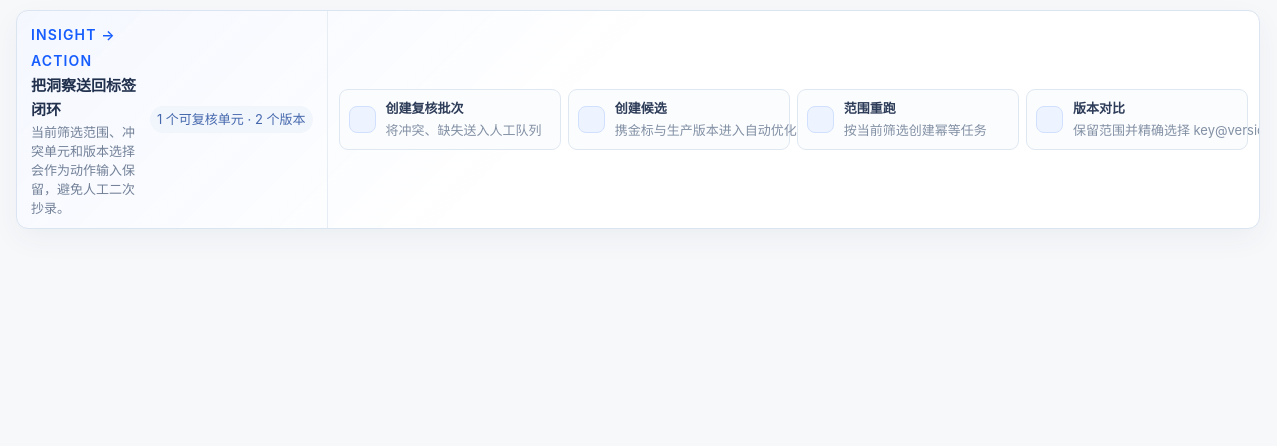
Test: GovernanceActions › turns conflicts into a traceable review batch
The image size is (1277, 446).
Click the button "创建复核批次 将冲突、缺失送入人工队列": (450, 120) [338,89,561,150]
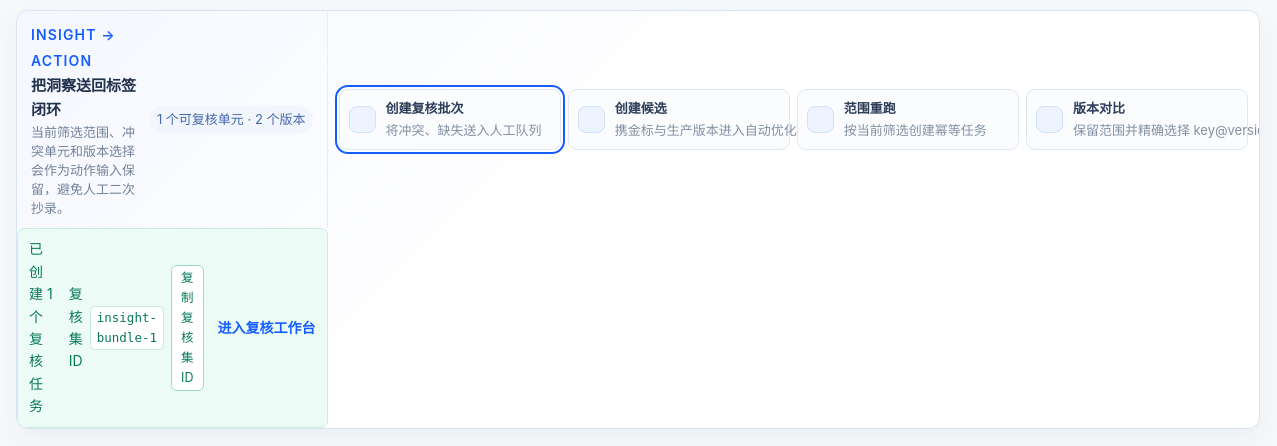
Check: the text "已创建 1 个复核任务" is shown, box [29,238,55,418]
